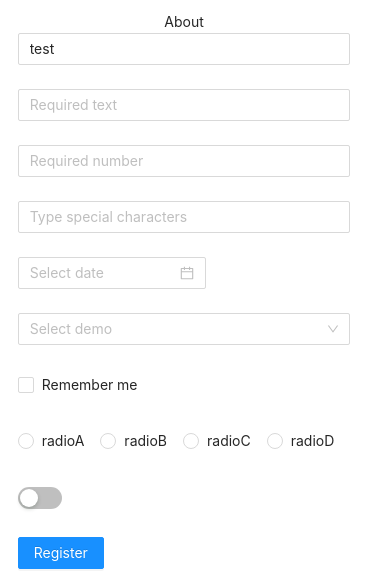
it: Home › should show an error when no special character is provided
The image size is (369, 588).
Step 1. Type "abcdef" into the field with test id "requiredSpecialCharacter" → [184, 217], box [18,201,350,233]
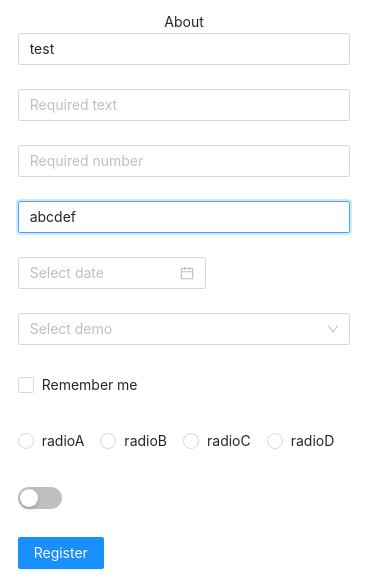
Step 2. Click the button with test id "submitFormBtn" → [61, 553], box [18,537,104,569]
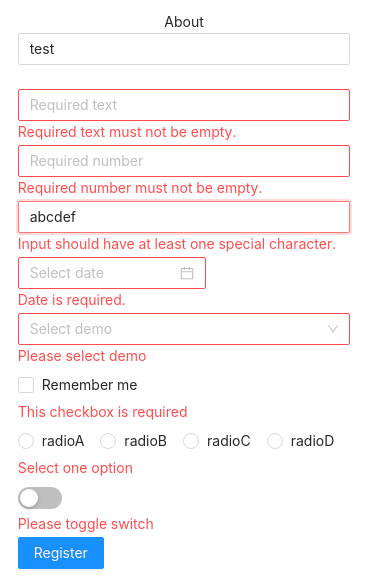
Expected: the text "Input should have at least one special character." is shown, [18,233,350,255]
